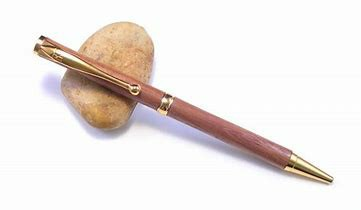pen: (31, 30, 335, 180)
